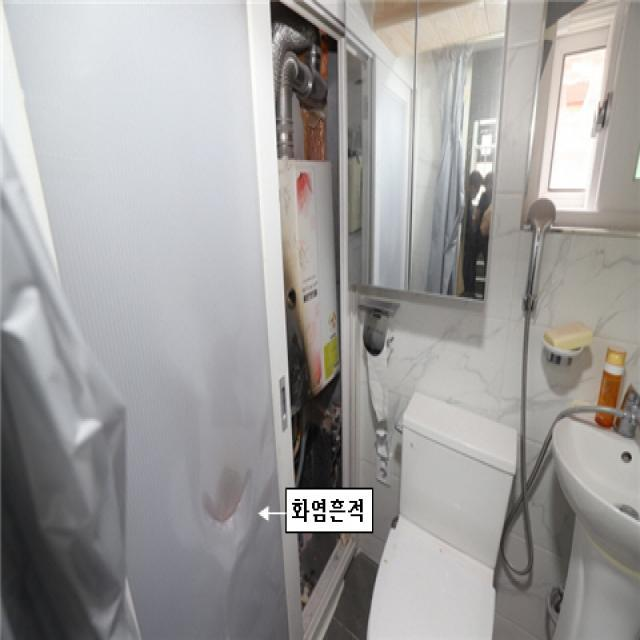Boiler: (264, 119, 372, 453)
